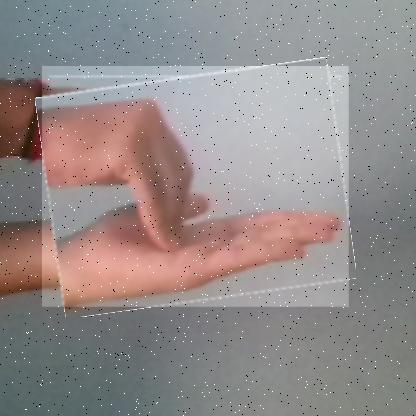Z: (42, 66, 350, 309)
